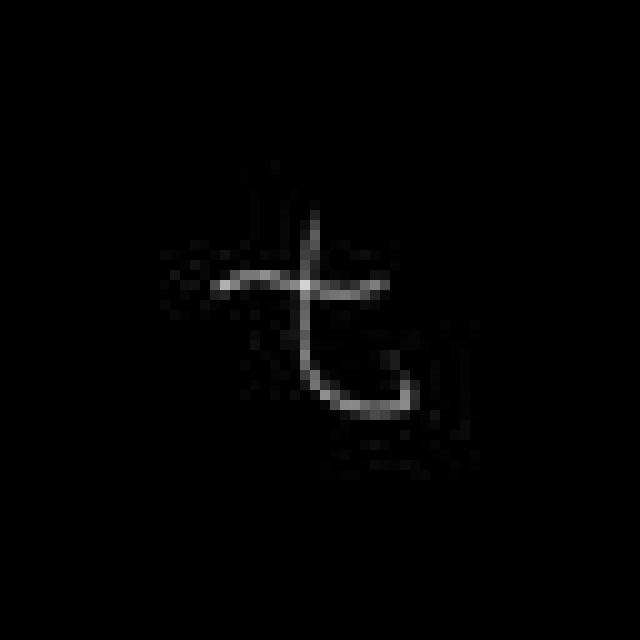7 -seven-: (206, 218, 420, 422)
